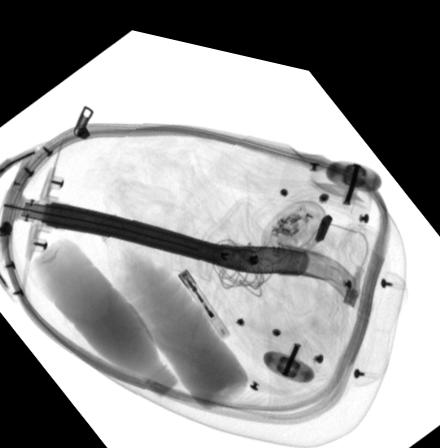Lighter: (175, 259, 228, 327)
